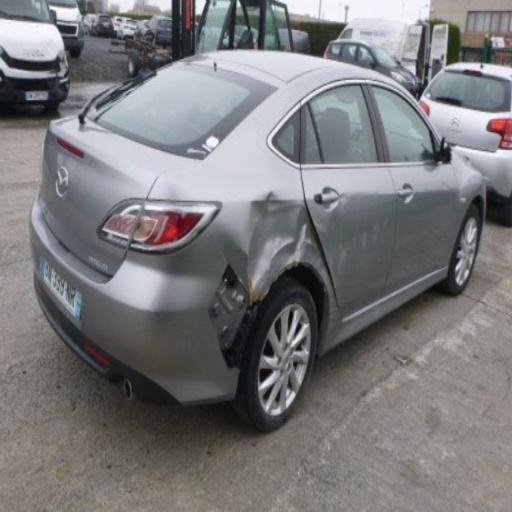dent: (247, 190, 317, 305), (317, 211, 389, 287), (223, 245, 256, 307), (300, 244, 326, 273), (338, 191, 347, 203), (372, 191, 379, 201)
rust: (305, 217, 323, 257), (244, 274, 264, 305), (326, 271, 335, 284)
